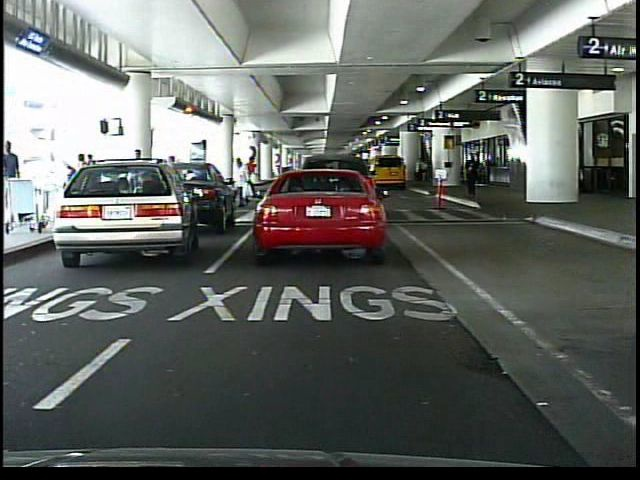person: (2, 138, 28, 225), (131, 145, 148, 220), (233, 158, 251, 207), (240, 153, 256, 205), (465, 151, 482, 195), (415, 155, 427, 190)
